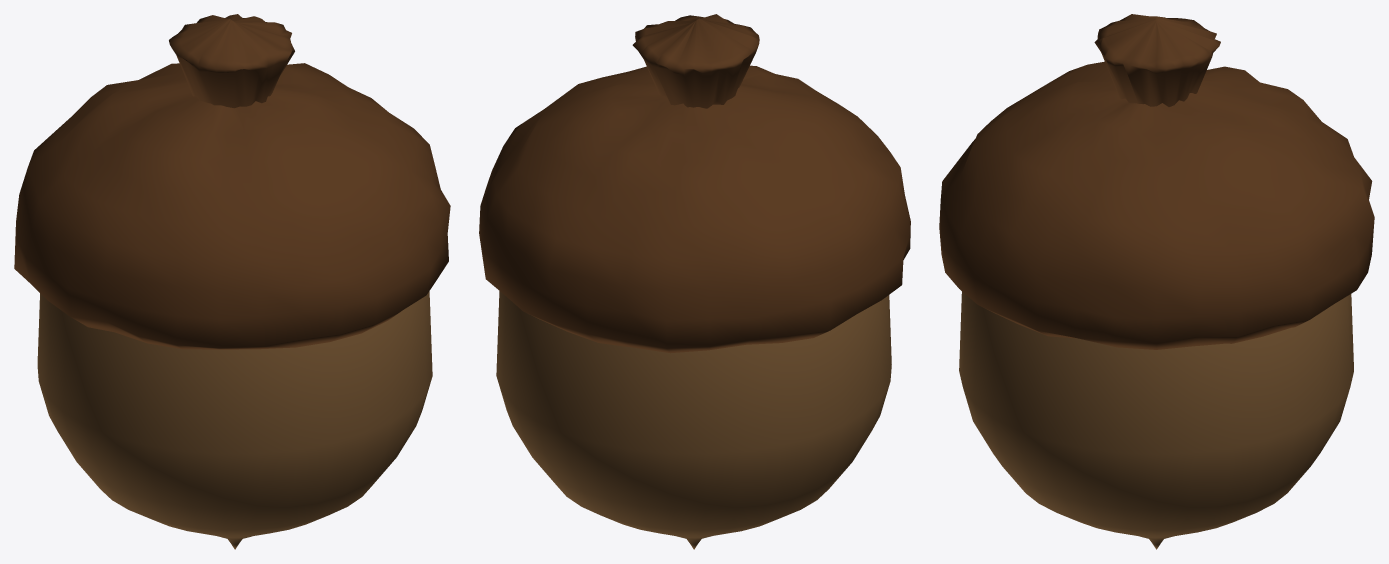
File: NEWAcornFORUnity.fbx
3 renders of one model, left to right at view 1: azimuth 30°, elevation 25°; view 2: azimuth 150°, elevation 25°; view 3: azimuth 270°, elevation 25°, orthographic.
Parts seen in each view (by area): view 1: AcornHat, AcornBody; view 2: AcornHat, AcornBody; view 3: AcornHat, AcornBody.
Boxes of the visible parts, x1,y1,x2,y2 form: AcornHat: (14,14,450,349); AcornBody: (37,291,432,549); AcornHat: (479,14,910,353); AcornBody: (496,291,891,549); AcornHat: (939,14,1374,349); AcornBody: (959,291,1353,549).
Size of the model in its own units: 220 by 297 by 220.
